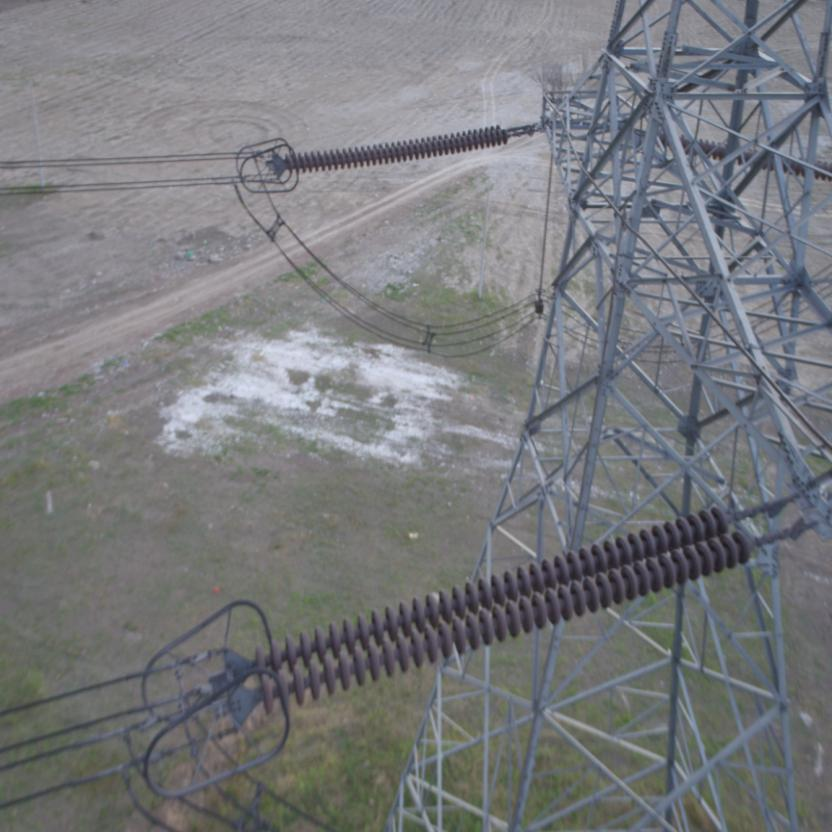insulator: (243, 501, 777, 716), (277, 121, 518, 176)
